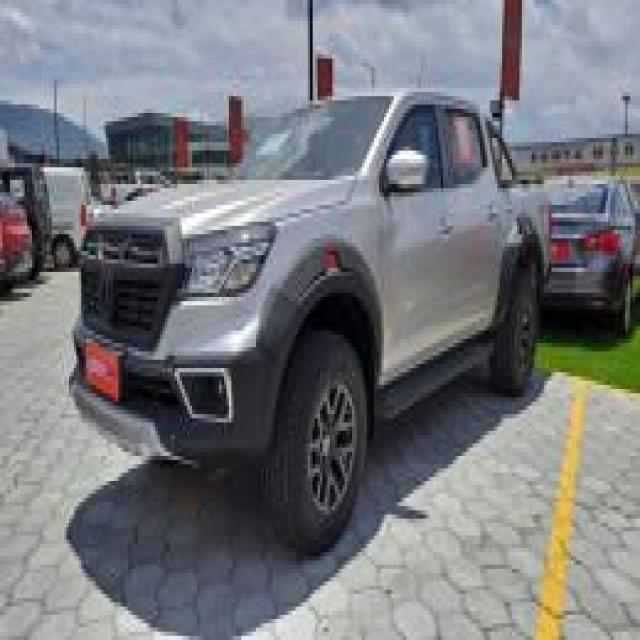CMT: (68, 84, 550, 469)
